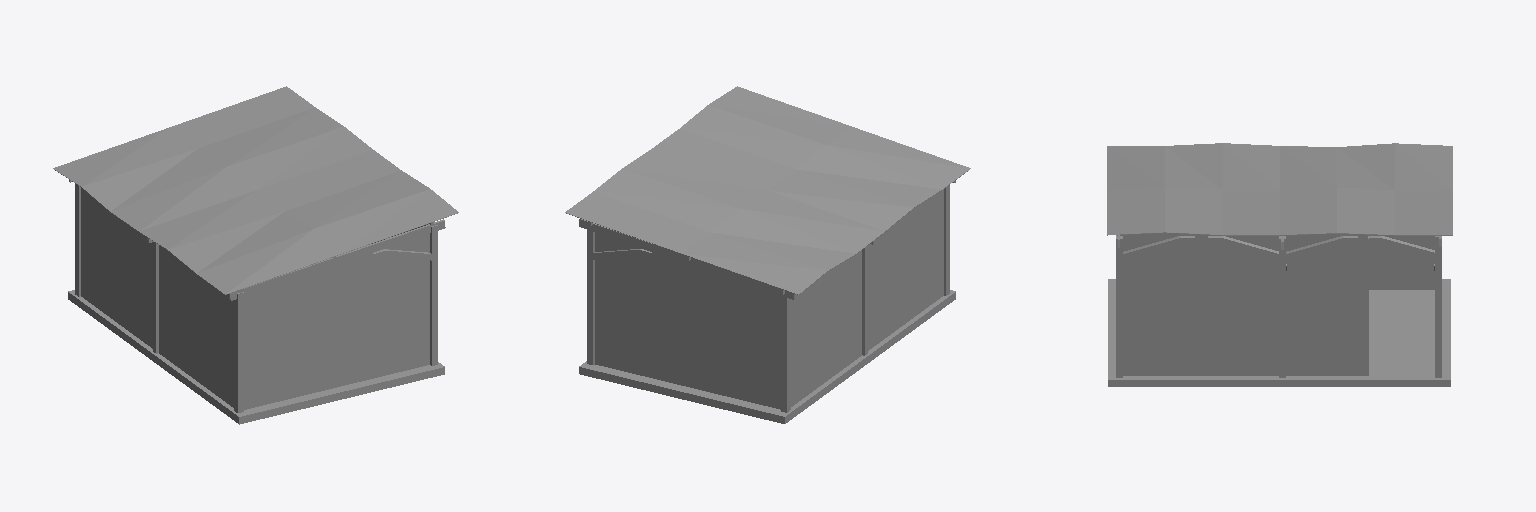
File: Shack01_blend.obj
3 views of the same model, side by side, from view 1: azimuth 30°, elevation 25°; view 2: azimuth 150°, elevation 25°; view 3: azimuth 270°, elevation 25° (orthographic).
Visible parts, largest first — view 1: Untitled_ShackOne256; view 2: Untitled_ShackOne256; view 3: Untitled_ShackOne256.
Boxes of the visible parts, x1=… form: Untitled_ShackOne256: x1=53, y1=86, x2=458, y2=424; Untitled_ShackOne256: x1=565, y1=86, x2=970, y2=423; Untitled_ShackOne256: x1=1107, y1=143, x2=1452, y2=386.
Bounding box in the file's own units: 5.84 × 3.85 × 7.46.